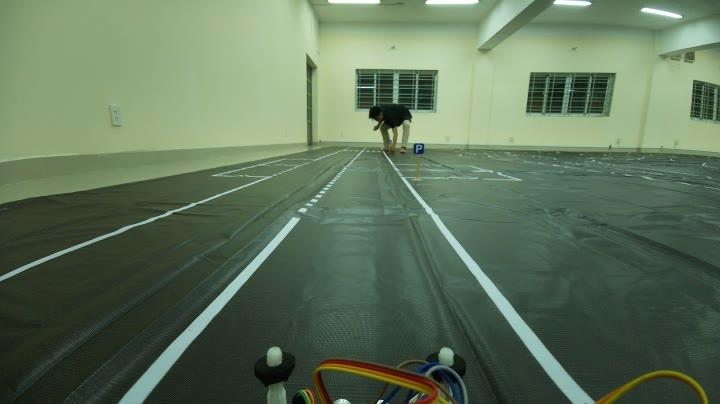parking: (409, 138, 428, 159)
